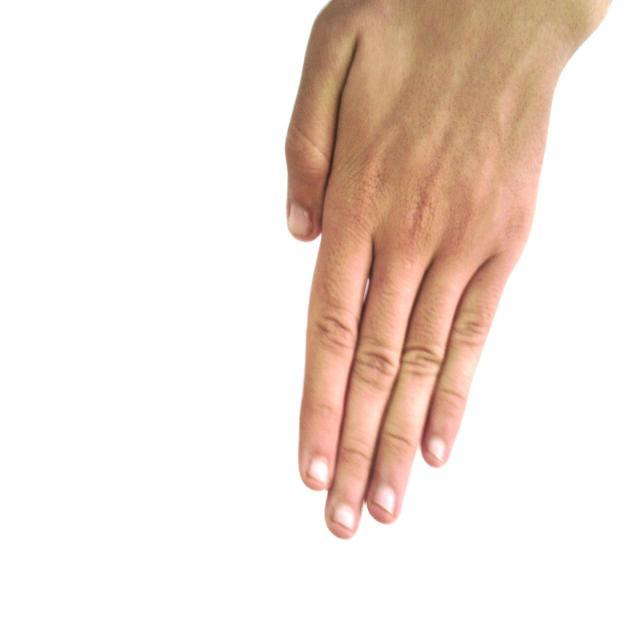Fingernail: (289, 205, 311, 236), (332, 504, 356, 529), (373, 485, 395, 512), (310, 458, 328, 485), (428, 438, 445, 460)
